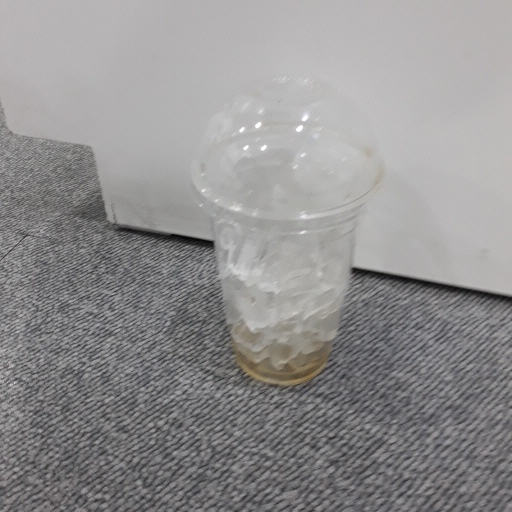Plastic_2: (189, 80, 391, 388)
